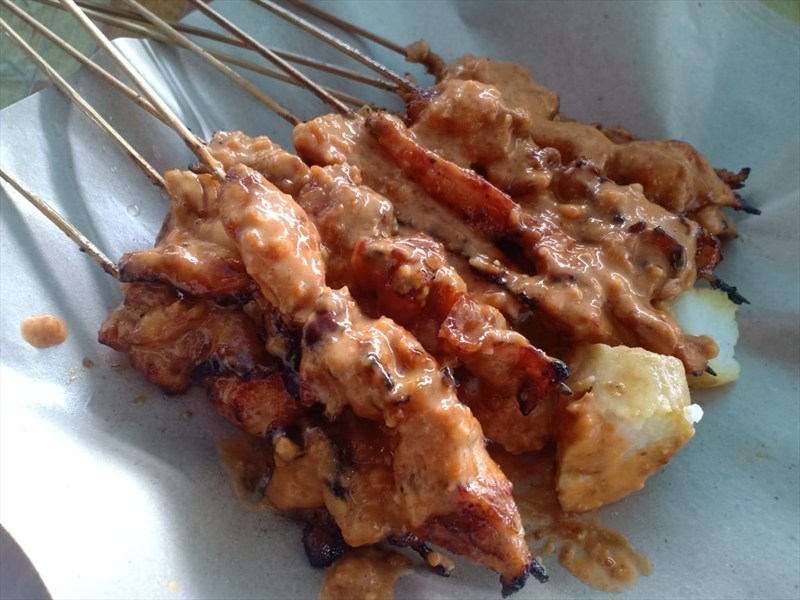Sate Ayam: (152, 104, 683, 496)
